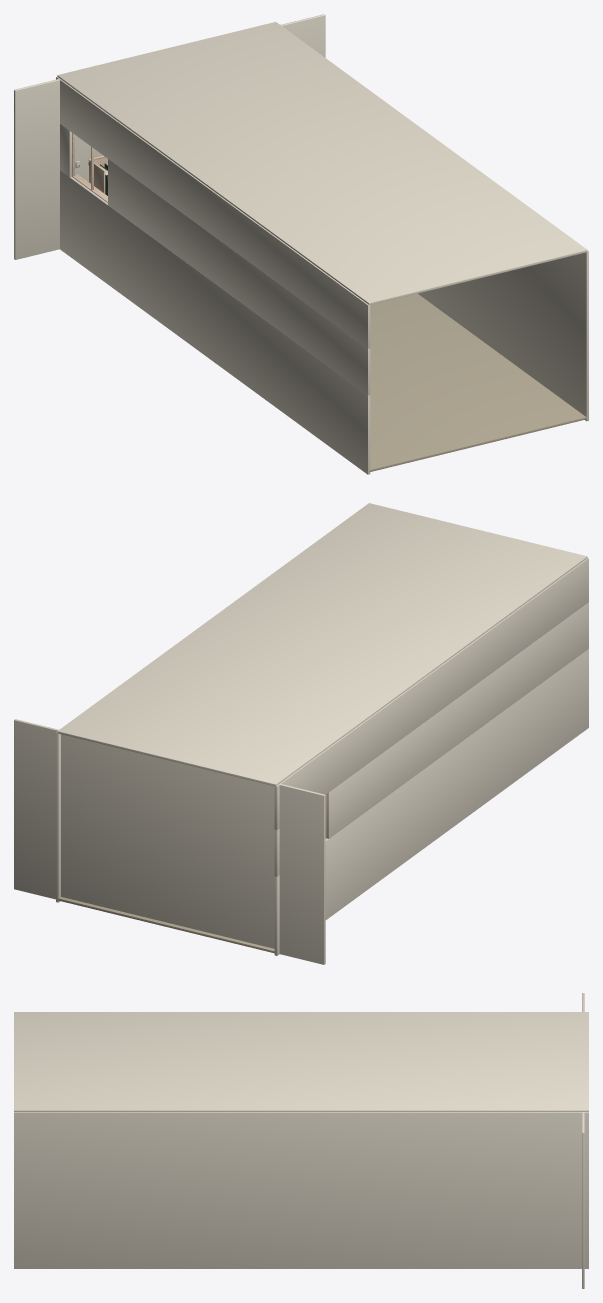
The model's file is escriptori.glb.
3 views of the same model, one above another, from view 1: azimuth 30°, elevation 25°; view 2: azimuth 150°, elevation 25°; view 3: azimuth 270°, elevation 25° (orthographic). The views are drawn at different scales.
Parts seen in each view (by area): view 1: RoomSurfaces; view 2: RoomSurfaces; view 3: RoomSurfaces.
Part boxes in pixels (box(x1,y1,x2,y2)): RoomSurfaces: box(14, 14, 588, 474); RoomSurfaces: box(14, 503, 588, 964); RoomSurfaces: box(14, 993, 588, 1288).
Bounding box in the file's own units: 23 × 12.11 × 40.
62 materials, 1 textured.
